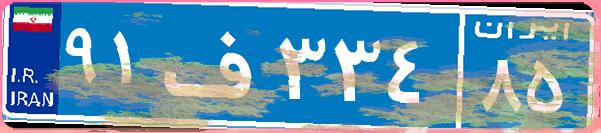1: (110, 28, 158, 105)
3: (273, 28, 330, 110), (330, 28, 385, 110)
4: (385, 28, 445, 110)
5: (525, 38, 570, 115)
8: (475, 38, 525, 113)
9: (57, 26, 110, 107)
ف: (158, 15, 273, 115)
